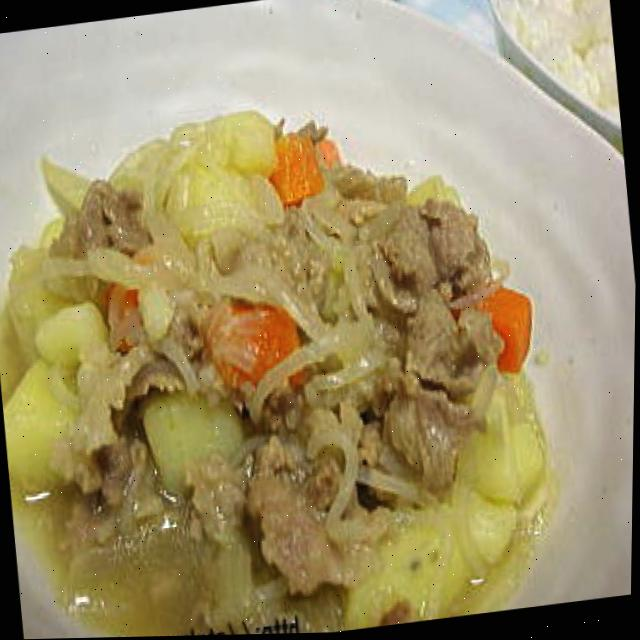牛肉菜式: (0, 43, 583, 624)
